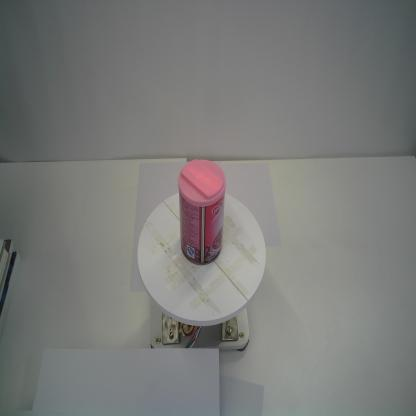Canned Food: (178, 158, 227, 266)
